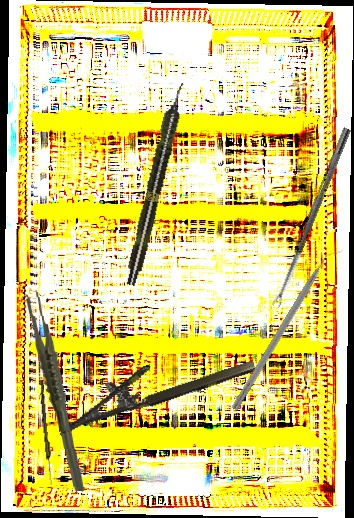Chopper: (231, 242, 345, 417)
Handpiece: (122, 80, 190, 288)
Needle Holder: (48, 333, 257, 437)
Surgical Spoon: (270, 126, 352, 309), (37, 379, 55, 486)
Tissue Forceps: (25, 290, 86, 494)
